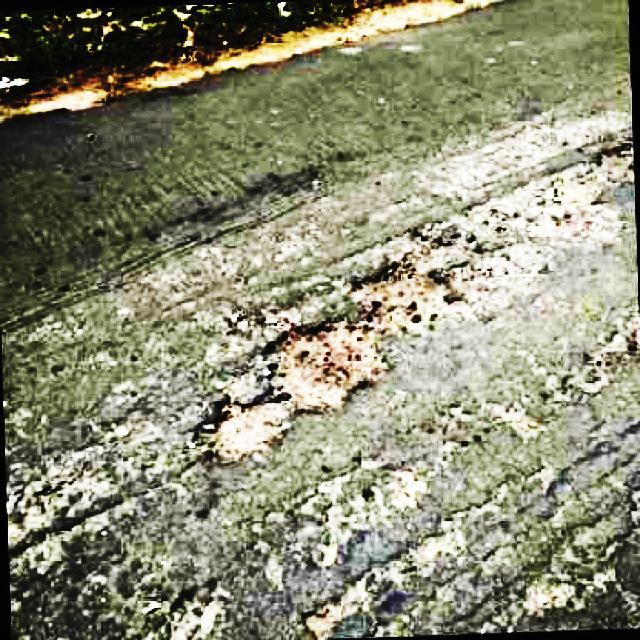pothole: (198, 312, 391, 463), (352, 222, 556, 338), (297, 518, 474, 640), (482, 143, 638, 251), (0, 442, 105, 576), (561, 303, 640, 392), (154, 567, 228, 640)
